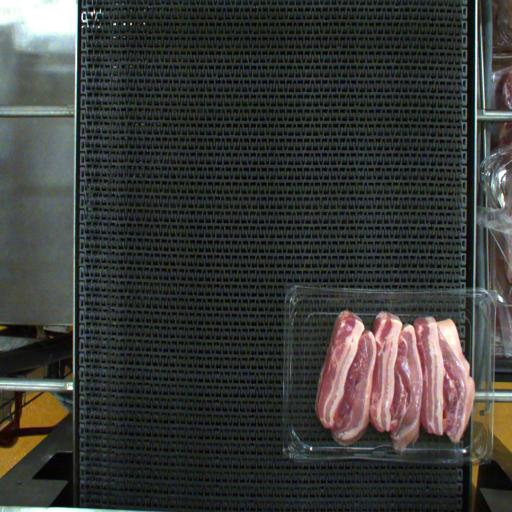packaging-error: (311, 426, 441, 482)
